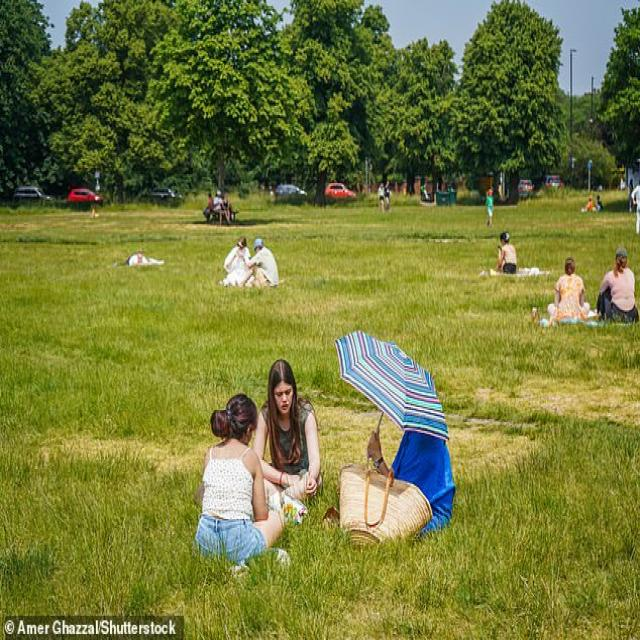Car: (68, 187, 104, 205), (13, 186, 53, 202), (324, 182, 356, 198), (274, 184, 308, 196), (150, 187, 182, 199), (517, 179, 534, 196), (545, 175, 563, 189)
Walking: (485, 188, 494, 226)
human: (200, 442, 258, 522), (209, 394, 257, 442), (203, 193, 215, 222), (383, 181, 391, 211), (564, 257, 575, 273), (628, 183, 634, 211)
loitering: (192, 392, 292, 573), (336, 410, 451, 543), (494, 226, 637, 326), (253, 358, 322, 507), (597, 247, 638, 324), (550, 246, 588, 326), (243, 236, 278, 288), (222, 236, 255, 288), (496, 233, 517, 275), (125, 250, 163, 266), (222, 193, 233, 224), (377, 183, 385, 212), (586, 195, 596, 211), (596, 195, 604, 212)
